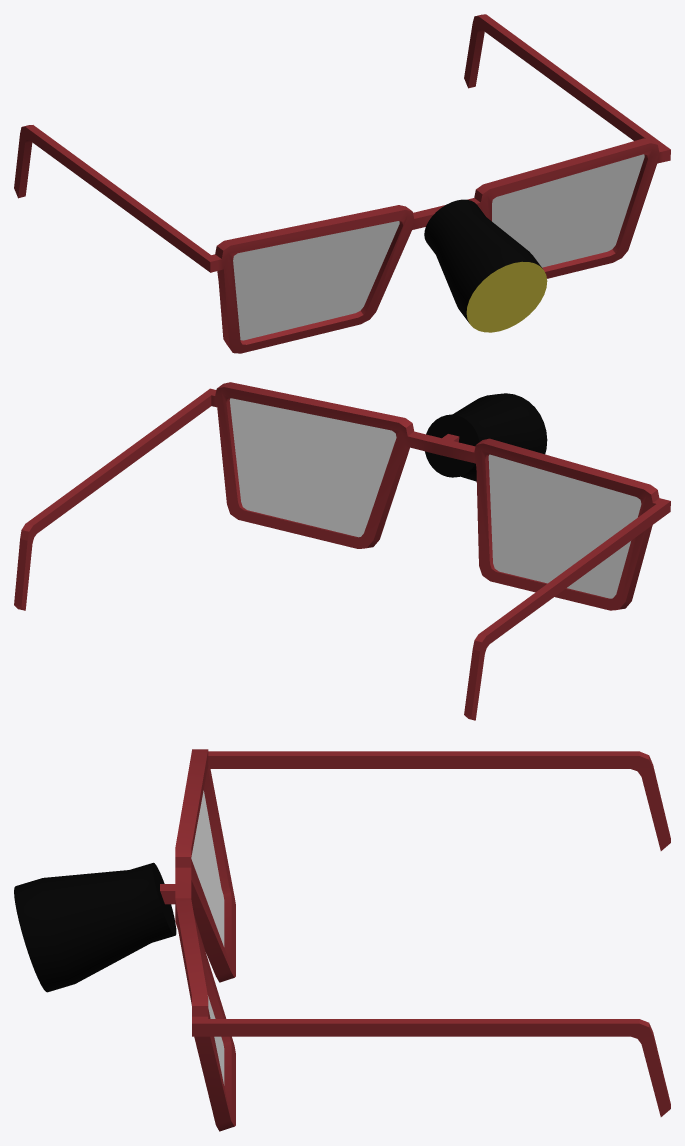
The model's file is Loupes.fbx.
3 renders of one model, top to bottom at view 1: azimuth 30°, elevation 25°; view 2: azimuth 150°, elevation 25°; view 3: azimuth 270°, elevation 25°, orthographic. The views are drawn at different scales.
Visible parts, largest first — view 1: Glasses, Torch; view 2: Glasses, Torch; view 3: Glasses, Torch.
Part boxes in pixels (x1,y1,x2,y2): Glasses: (14, 14, 670, 353); Torch: (424, 199, 547, 332); Glasses: (14, 382, 670, 720); Torch: (425, 393, 547, 481); Glasses: (160, 749, 670, 1131); Torch: (14, 862, 176, 992).
Size of the model in its own units: 648 by 172 by 661.
